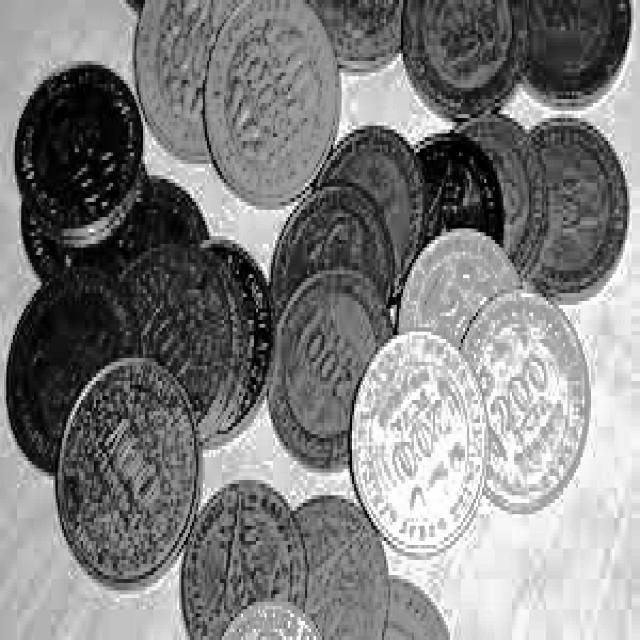fukk: (181, 480, 306, 638)
niaari fukk: (56, 357, 201, 587), (6, 272, 139, 473), (15, 62, 142, 248), (294, 496, 389, 638), (136, 176, 209, 252)
nient fukk: (351, 330, 488, 554), (464, 290, 589, 509), (528, 118, 628, 299), (318, 129, 424, 297), (270, 185, 392, 321), (456, 114, 545, 277), (399, 228, 519, 346), (404, 0, 519, 121), (285, 290, 376, 438), (522, 0, 631, 105), (415, 132, 502, 243)
teemeer: (205, 0, 340, 205), (135, 0, 234, 161), (313, 0, 402, 69)
